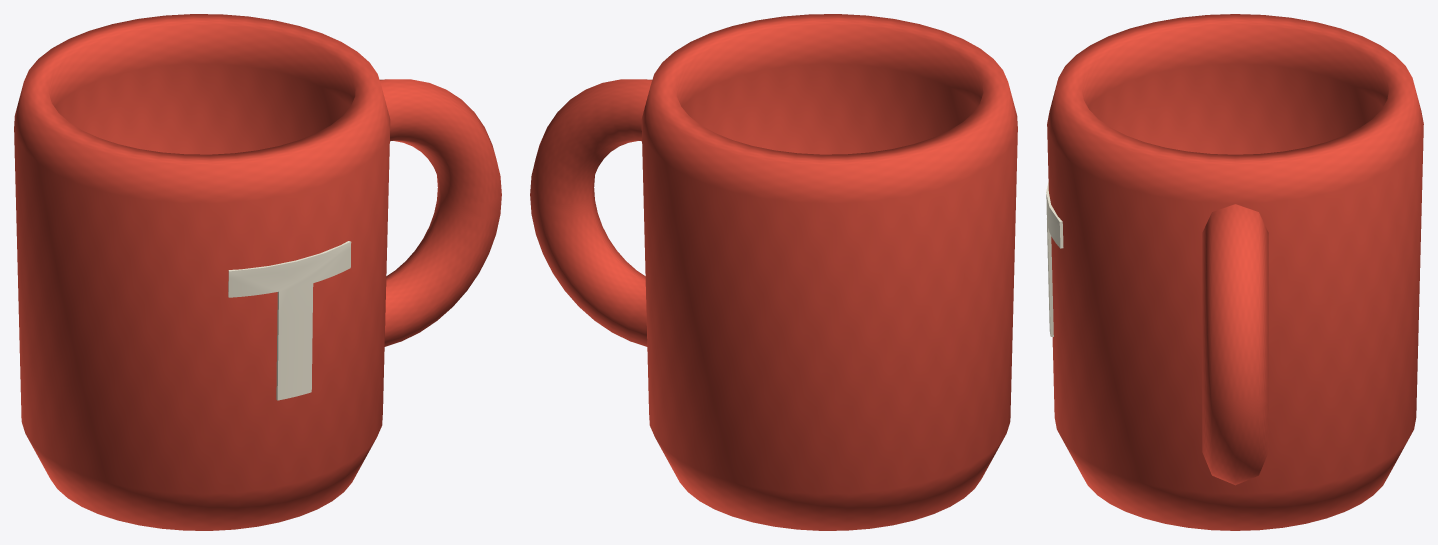
File: MUG.glb
The picture shows the model from 3 angles, left to right: view 1: azimuth 30°, elevation 25°; view 2: azimuth 150°, elevation 25°; view 3: azimuth 270°, elevation 25°; orthographic projection.
Parts seen in each view (by area): view 1: MUG; view 2: MUG; view 3: MUG.
Boxes of the visible parts, x1,y1,x2,y2 form: MUG: (14,14,501,530); MUG: (530,14,1017,530); MUG: (1046,14,1423,530).
Bounding box in the file's own units: 0.352 × 0.275 × 0.2506.
2 materials, 1 textured.
